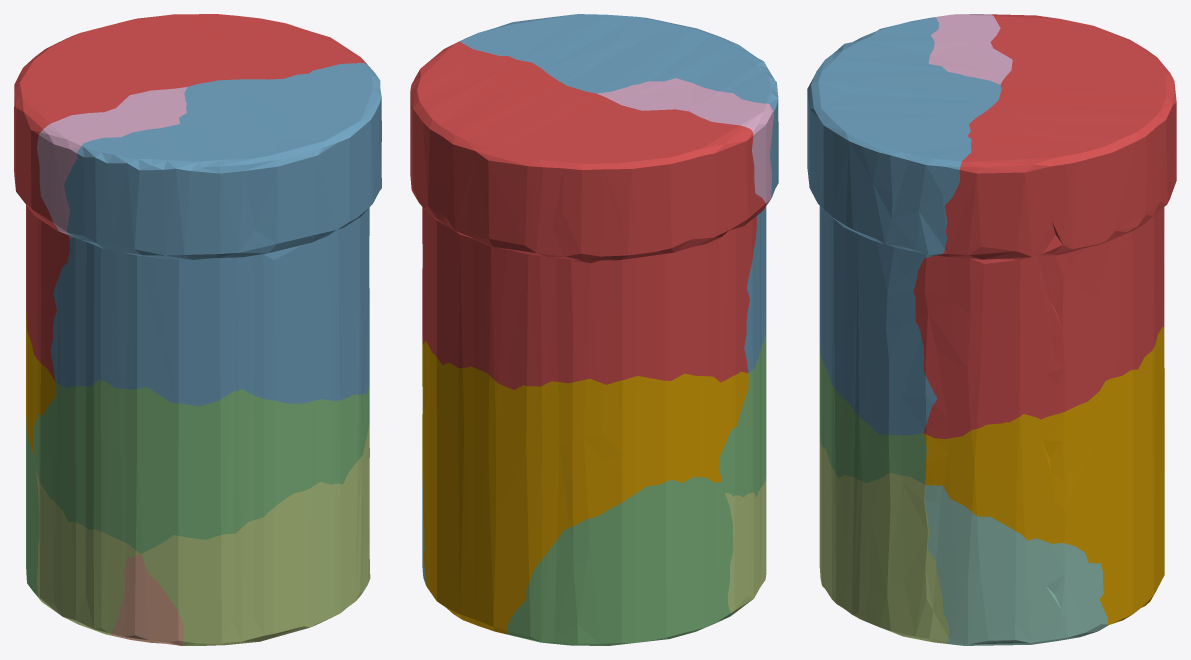
Rendered from fractured_51_8pcs.glb.
The picture shows the model from 3 angles, left to right: view 1: azimuth 30°, elevation 25°; view 2: azimuth 150°, elevation 25°; view 3: azimuth 270°, elevation 25°; orthographic projection.
Parts seen in each view (by area): view 1: piece_2.obj, piece_3.obj, piece_5.obj, piece_1.obj, piece_6.obj, piece_7.obj, piece_0.obj; view 2: piece_1.obj, piece_0.obj, piece_3.obj, piece_2.obj, piece_6.obj, piece_5.obj; view 3: piece_1.obj, piece_2.obj, piece_0.obj, piece_4.obj, piece_5.obj, piece_3.obj, piece_6.obj.
Boxes of the visible parts, x1,y1,x2,y2 form: piece_2.obj: (50, 63, 381, 406); piece_3.obj: (26, 379, 369, 600); piece_5.obj: (36, 423, 370, 645); piece_1.obj: (14, 14, 367, 380); piece_6.obj: (37, 87, 187, 238); piece_7.obj: (111, 554, 183, 645); piece_0.obj: (26, 313, 55, 454); piece_1.obj: (410, 41, 765, 389); piece_0.obj: (422, 340, 748, 634); piece_3.obj: (507, 327, 766, 645); piece_2.obj: (459, 14, 778, 372); piece_6.obj: (597, 78, 773, 208); piece_5.obj: (725, 477, 766, 616); piece_1.obj: (913, 14, 1176, 438); piece_2.obj: (807, 17, 1001, 435); piece_0.obj: (923, 326, 1164, 625); piece_4.obj: (925, 485, 1107, 645); piece_5.obj: (819, 437, 949, 643); piece_3.obj: (819, 340, 926, 484); piece_6.obj: (928, 14, 1012, 84).
Size of the model in its own units: 0.6842 by 1 by 0.6842.
